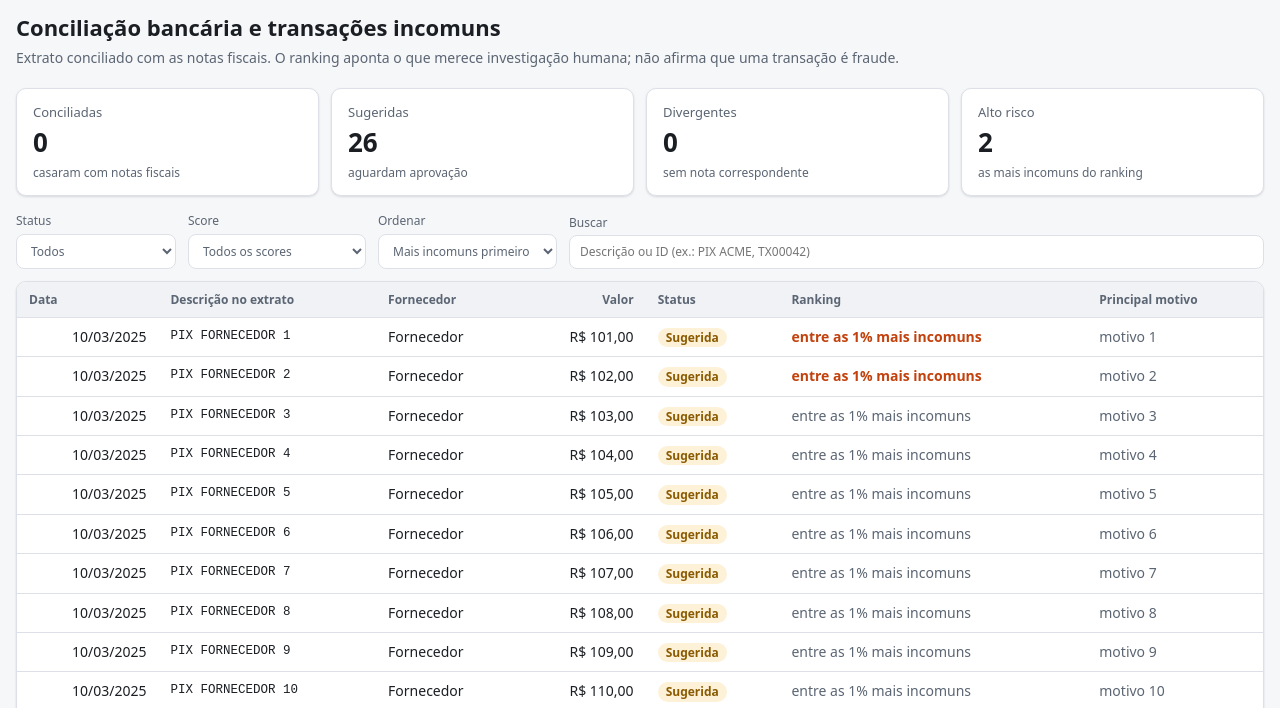
it: Dashboard › approving the only row of the last page steps back a page
Select "Sugerida" in the dropdown labelled "Status" at (96, 251), box x1=16 y1=234 x2=176 y2=268
(page scrolled)
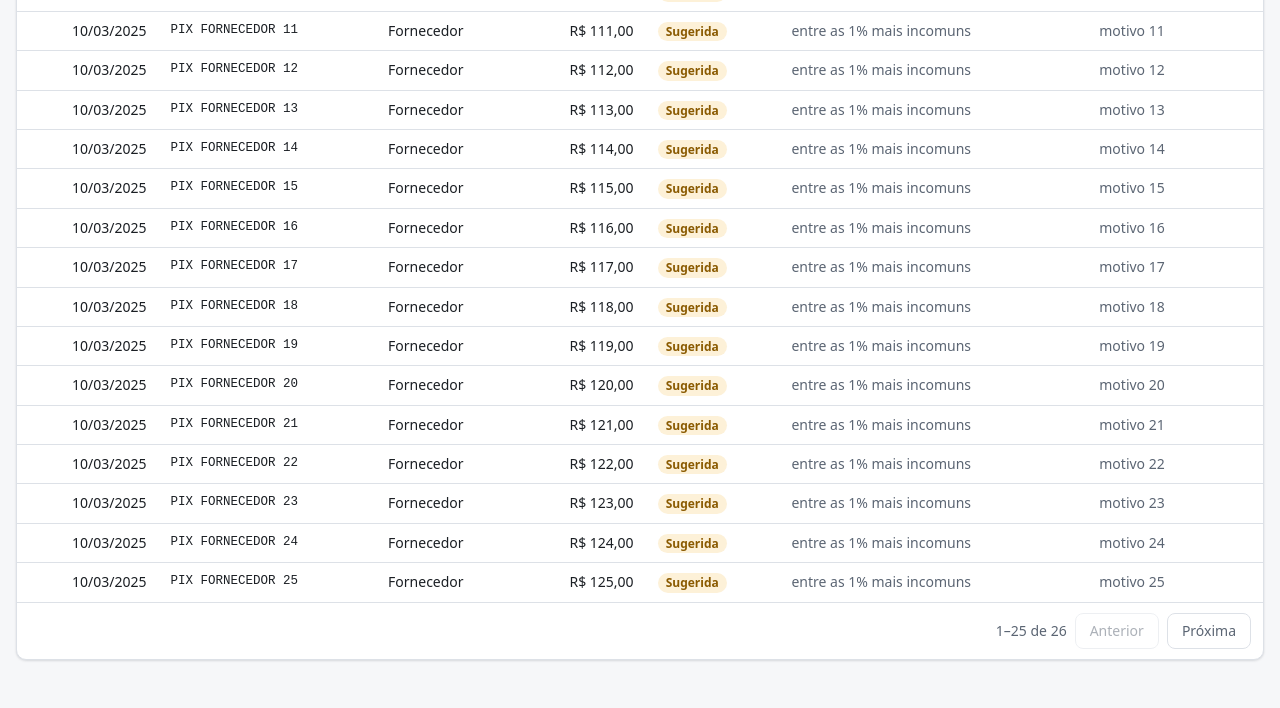
Click the button "Próxima".
click(1209, 631)  # box x1=1167 y1=613 x2=1251 y2=649
(page scrolled)
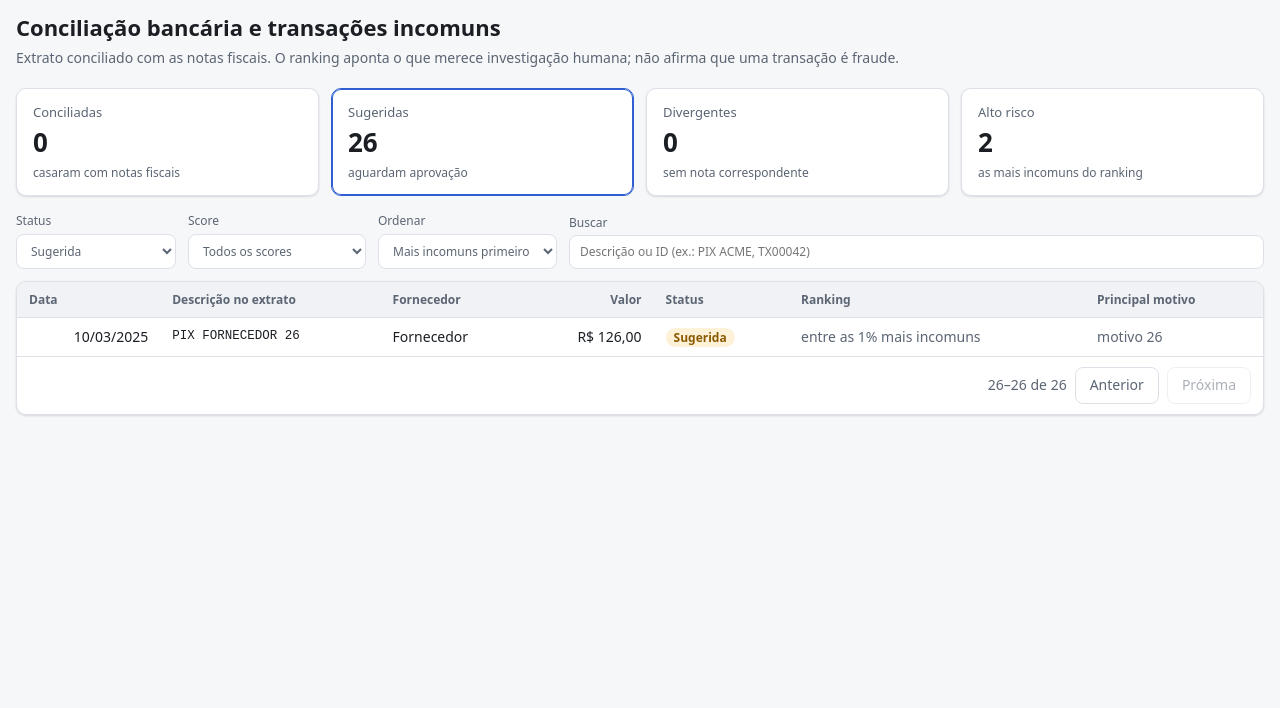
Expected: the text "26–26 de 26" is shown, x1=988 y1=375 x2=1067 y2=396
Click the cell "PIX FORNECEDOR 26".
click(270, 337)  # box x1=160 y1=317 x2=381 y2=357
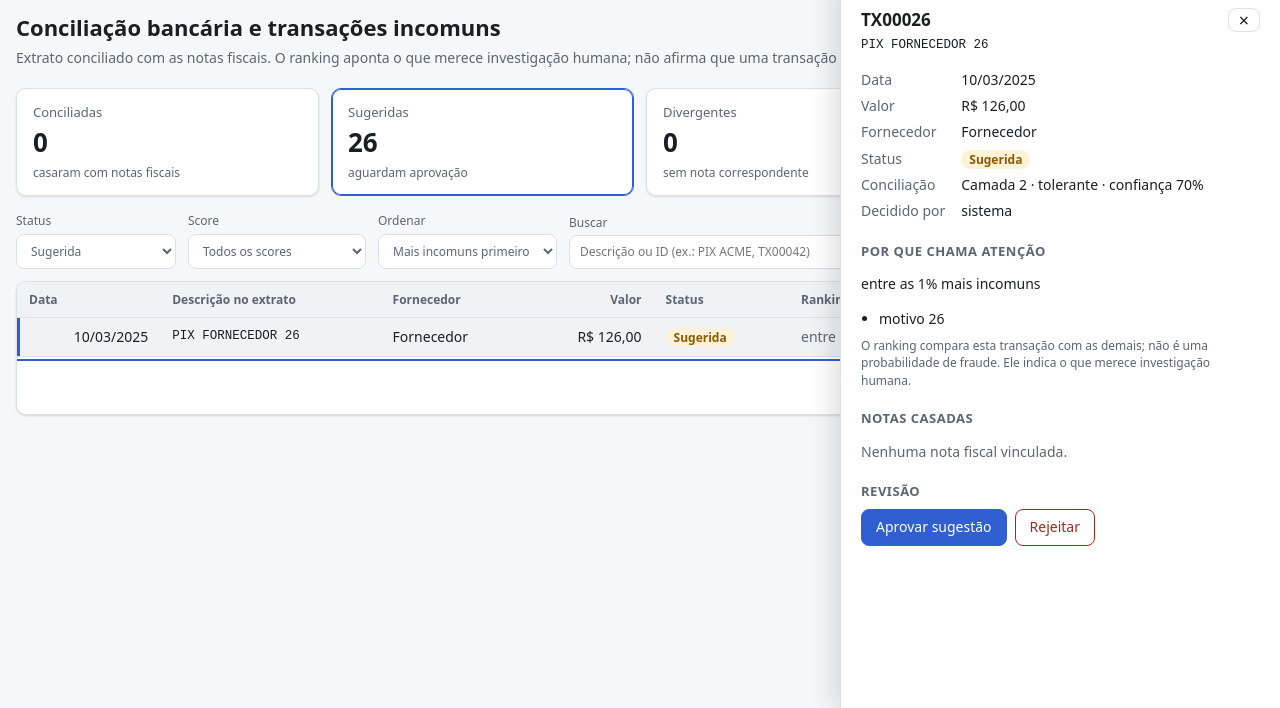
Click the button "Aprovar sugestão".
click(934, 527)  # box x1=861 y1=509 x2=1007 y2=546
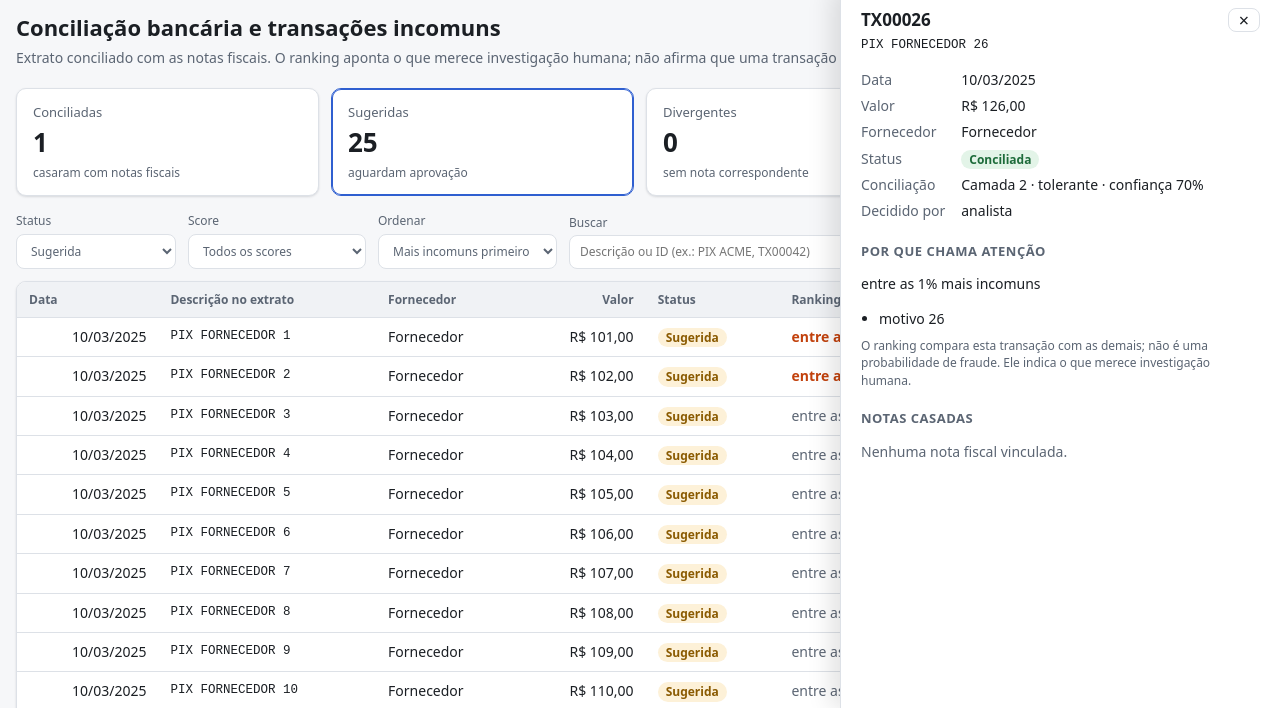
Expected: the text "analista" is shown, x1=961 y1=201 x2=1012 y2=220
